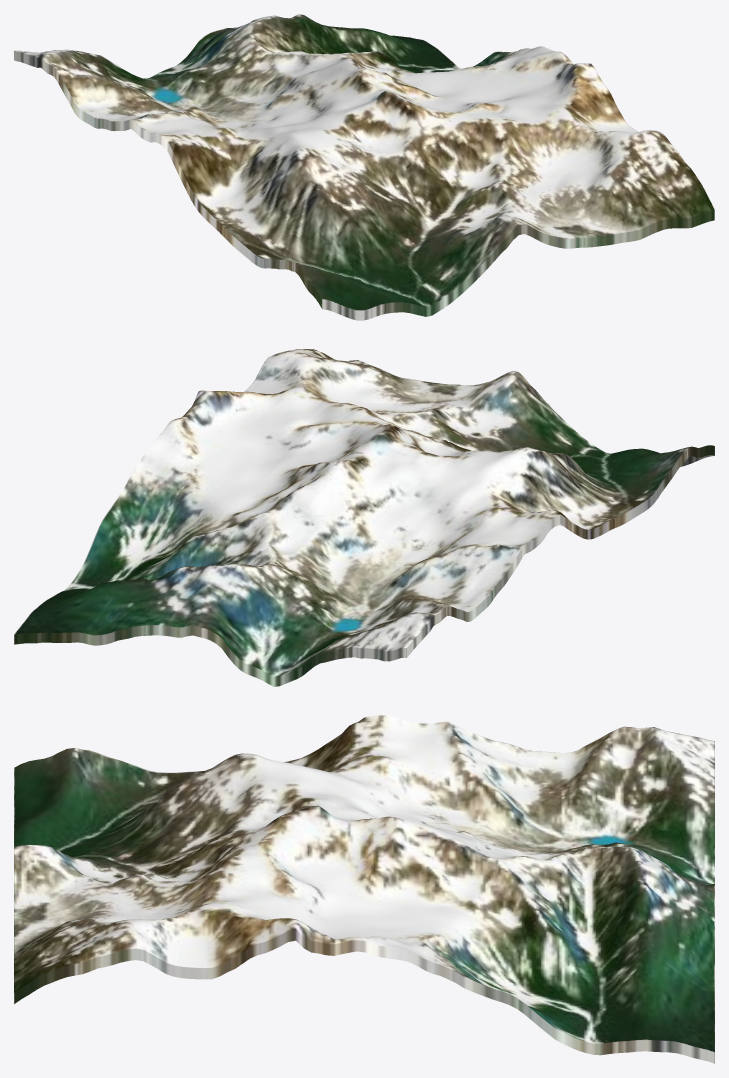
3 renders of one model, top to bottom at view 1: azimuth 30°, elevation 25°; view 2: azimuth 150°, elevation 25°; view 3: azimuth 270°, elevation 25°, orthographic. The views are drawn at different scales.
Parts seen in each view (by area): view 1: tile; view 2: tile; view 3: tile.
Part boxes in pixels (<box>): tile: <box>14,14,714,320</box>; tile: <box>14,349,714,686</box>; tile: <box>14,715,714,1063</box>.
Size of the model in its own units: 4050 by 1293 by 5505.
Materials: 1 (1 with a texture image).
